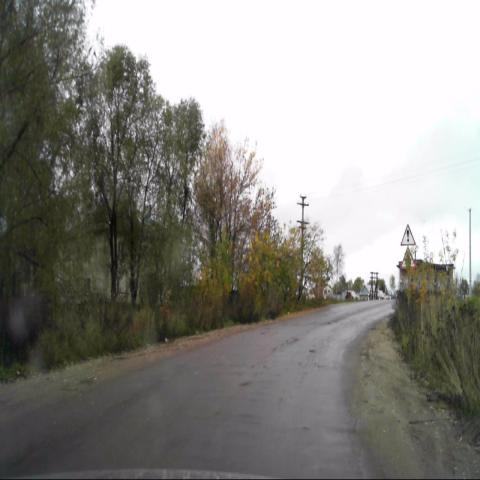1_1: (400, 246, 417, 269)
1_33: (400, 224, 416, 246)
